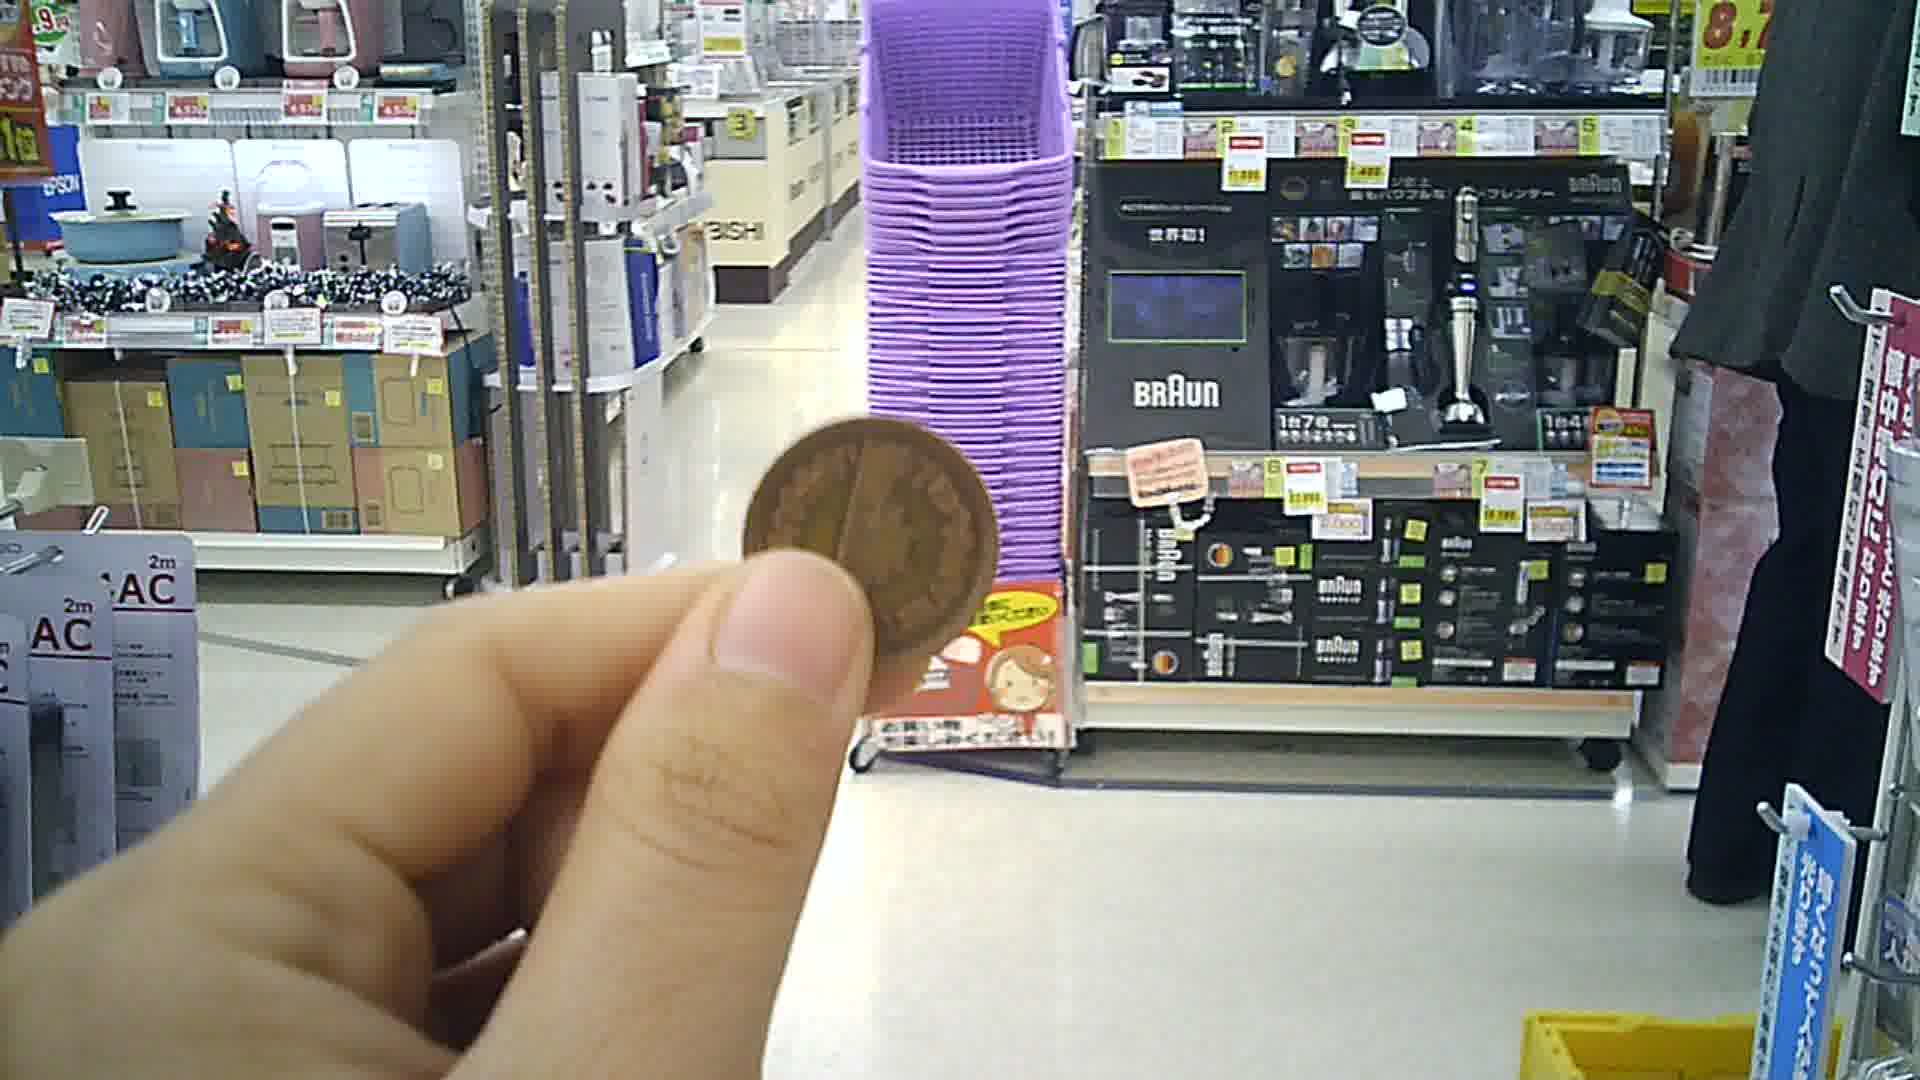10 Yen: (735, 407, 1007, 665)
